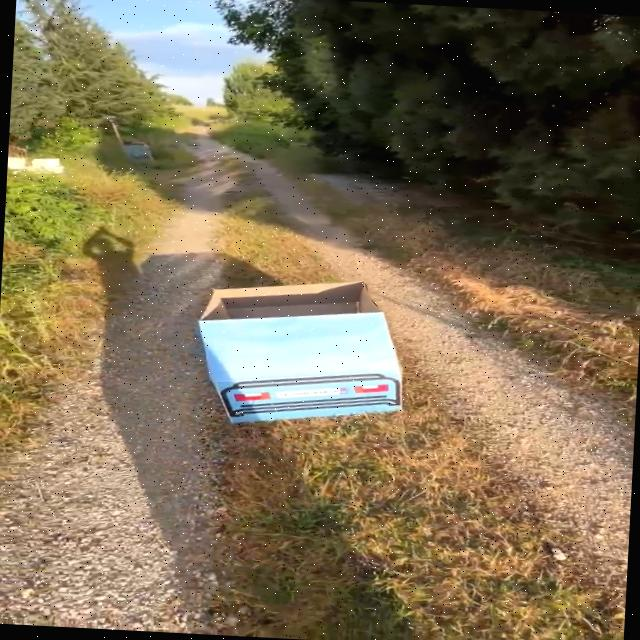blue_car: (151, 231, 494, 457)
